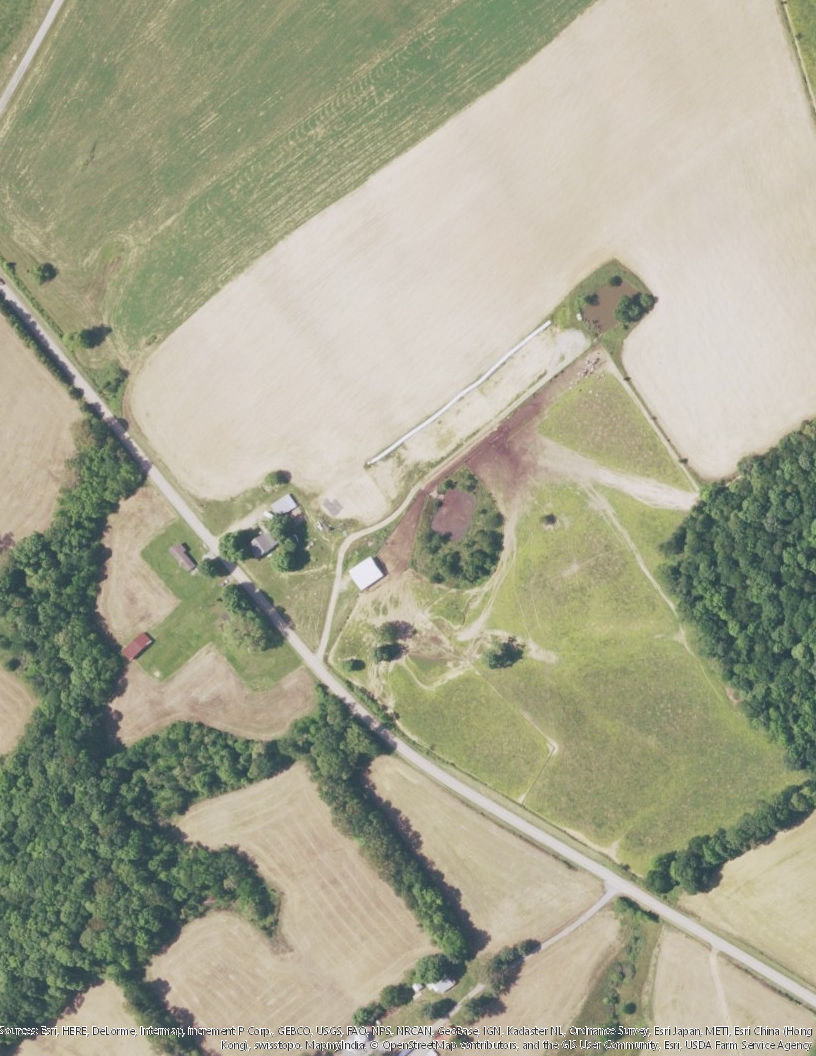cafo: (346, 556, 388, 590)
